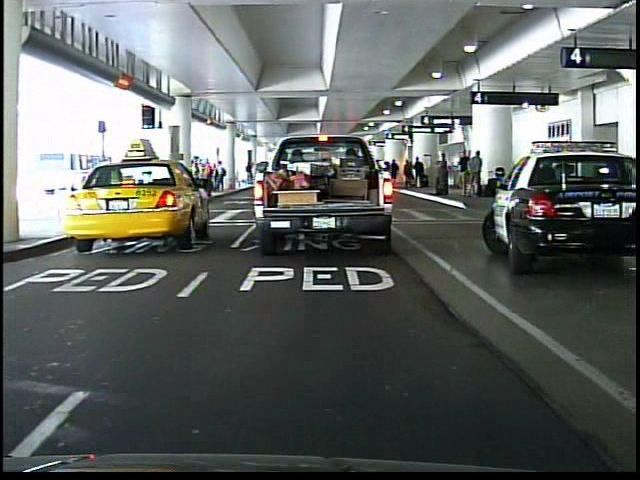person: (270, 147, 299, 223), (332, 144, 357, 206), (244, 159, 257, 188)
